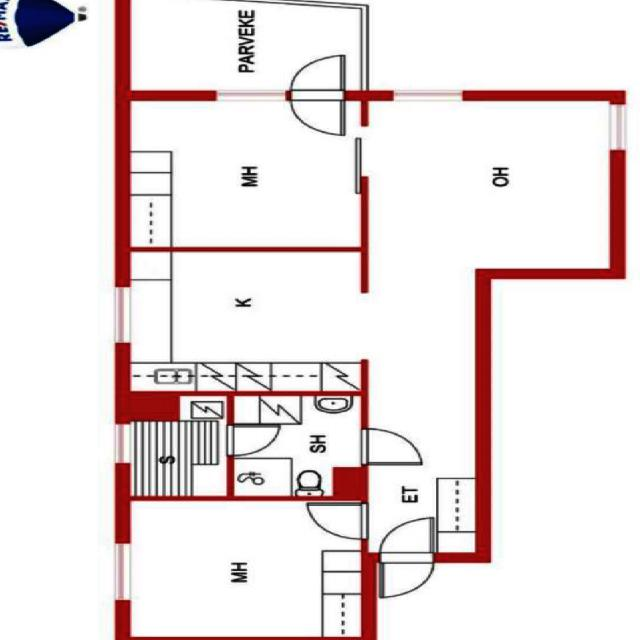door: (290, 55, 343, 101), (290, 90, 343, 136), (379, 553, 433, 598), (379, 518, 433, 563), (360, 429, 422, 464), (307, 504, 368, 539), (228, 426, 278, 456)
